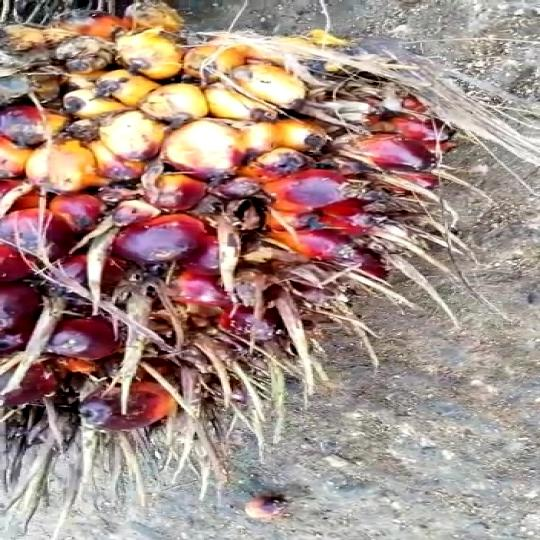masak: (0, 0, 459, 472)
